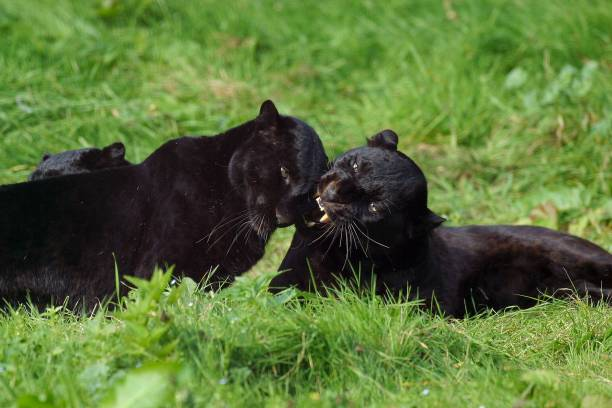panther: (312, 123, 444, 246)
